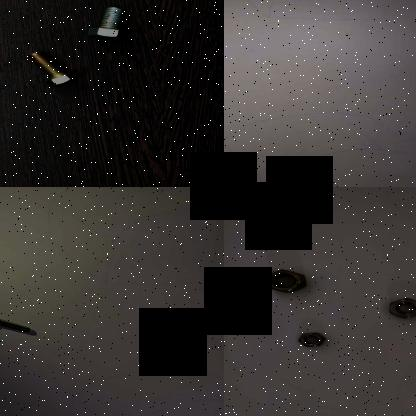Bolts: (24, 44, 86, 88), (81, 1, 140, 42), (0, 310, 35, 336)
NUTS: (264, 266, 308, 294), (385, 294, 416, 319), (295, 330, 330, 348)
